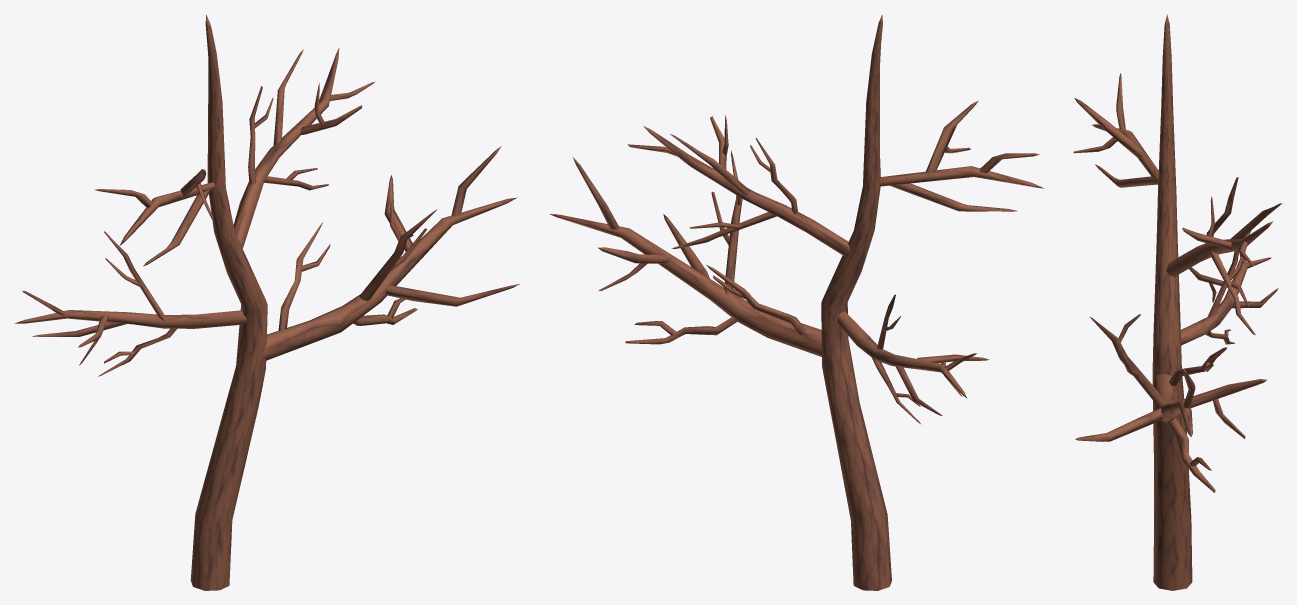
The model's file is DeadTree_3.glb.
The picture shows the model from 3 angles, left to right: view 1: azimuth 30°, elevation 25°; view 2: azimuth 150°, elevation 25°; view 3: azimuth 270°, elevation 25°; orthographic projection.
Bounding box in the file's own units: 4.2 × 4.96 × 1.67.
1 material, 1 textured.
